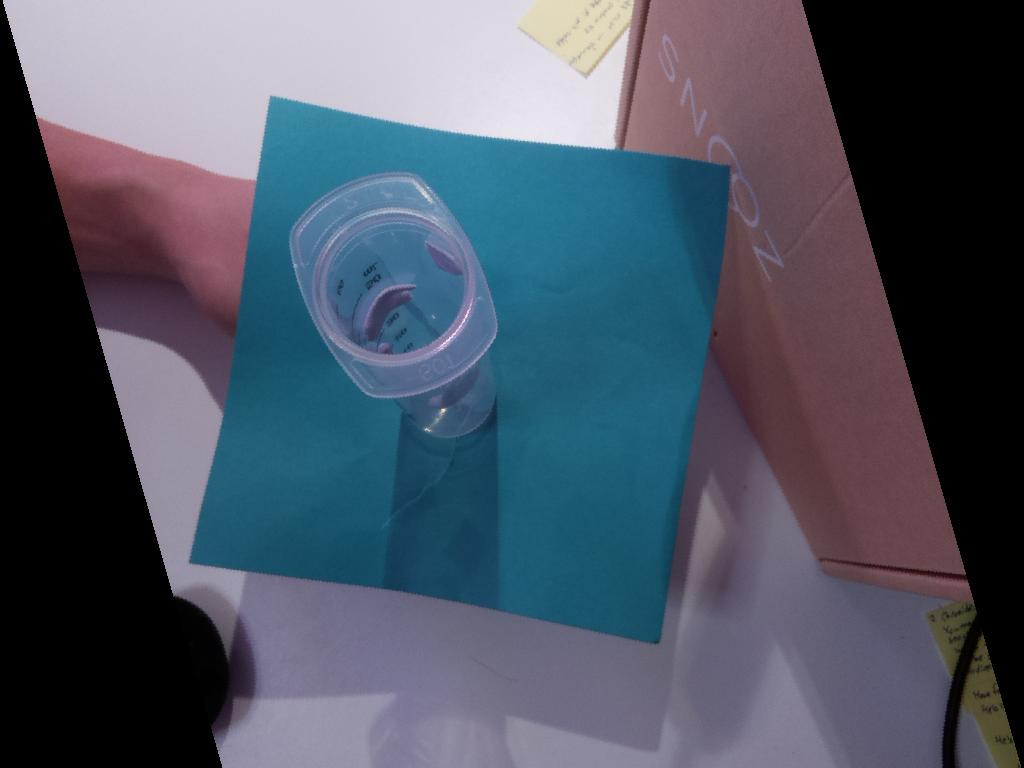dirty: (289, 173, 497, 398)
